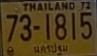1: (71, 12, 75, 40), (46, 13, 50, 40)
3: (19, 14, 31, 40)
5: (80, 12, 92, 38)
7: (6, 14, 17, 41)
8: (55, 13, 66, 39)
NPT: (33, 42, 69, 56)
